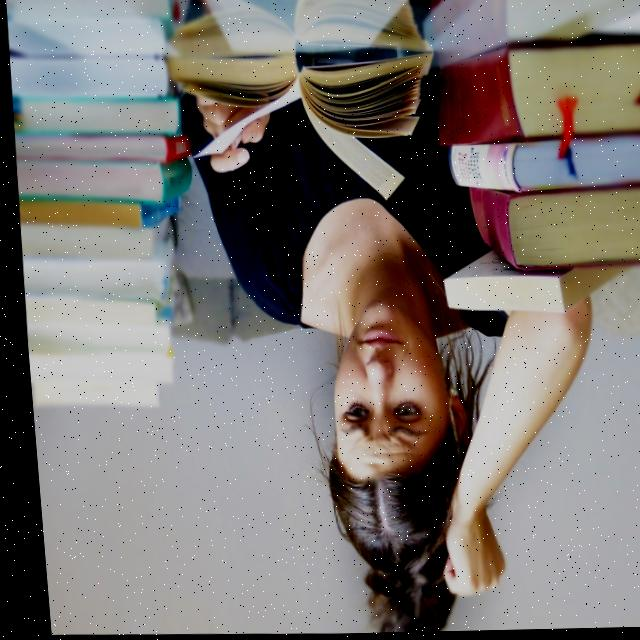studying-person: (146, 12, 623, 637)
